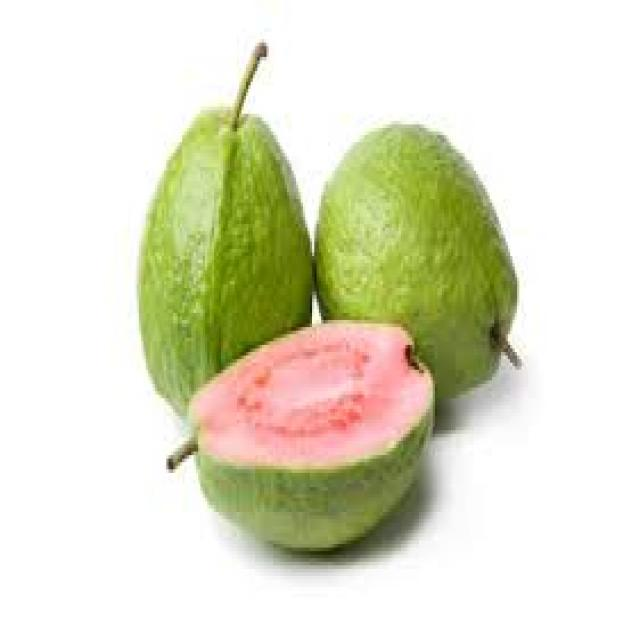organic waste: (132, 39, 314, 427), (164, 316, 435, 558), (312, 121, 522, 416)
